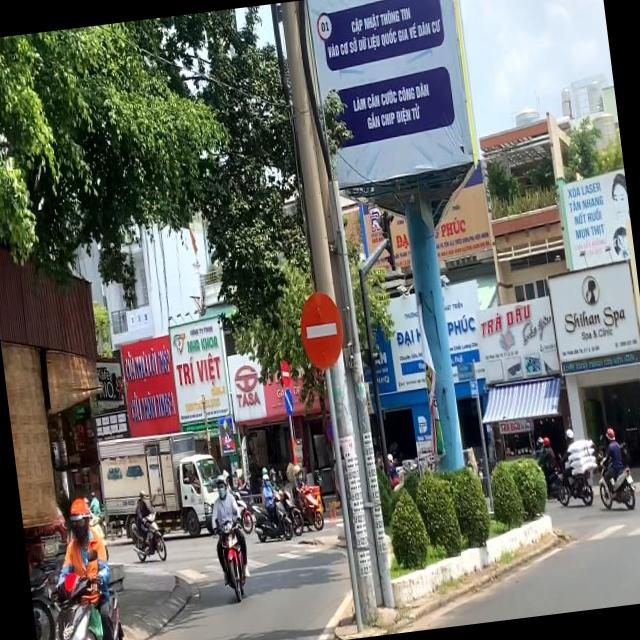P-102: (295, 287, 345, 373)
